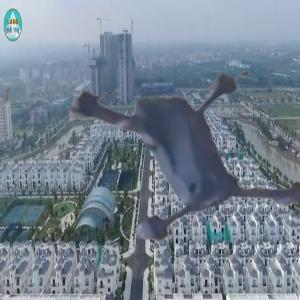drone: (12, 15, 289, 292)
